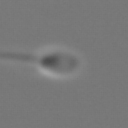normal: (1, 48, 41, 73)
